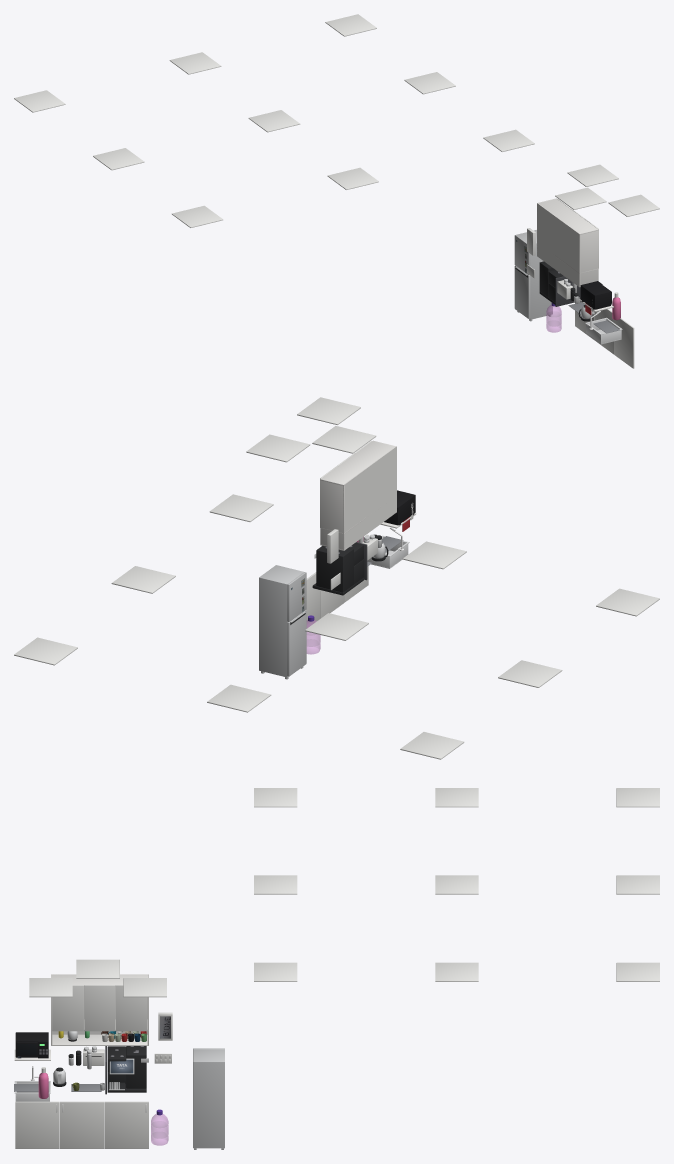
The model's file is props_pantry.glb.
3 views of the same model, one above another, from view 1: azimuth 30°, elevation 25°; view 2: azimuth 150°, elevation 25°; view 3: azimuth 270°, elevation 25° (orthographic). The views are drawn at different scales.
Parts seen in each view (by area): view 1: wall_cabinet_body, lg_fridge, base_cabinet_door_01, lg_fridge_door_main, lg_microwave, led_panel_04, led_panel_05, led_panel_09, led_panel_10, led_panel_12, led_panel_01, led_panel_02 (+7 smaller); view 2: wall_cabinet_body, lg_fridge, tata_bistro_machine, lg_fridge_door_main, led_panel_08, led_panel_12, led_panel_01, led_panel_02, led_panel_07, led_panel_09, led_panel_04, led_panel_05 (+7 smaller); view 3: lg_fridge, base_cabinet_door_01, base_cabinet_door_02, base_cabinet_door_03, wall_cabinet_body, wall_cabinet_door_02, tata_bistro_machine, wall_cabinet_door_01, wall_cabinet_door_03, led_panel_01, led_panel_02, led_panel_04 (+11 smaller).
Boxes of the visible parts, box(x1,y1,x2,y2) form: wall_cabinet_body: box(537, 198, 598, 287); lg_fridge: box(517, 230, 552, 321); base_cabinet_door_01: box(614, 318, 634, 368); lg_fridge_door_main: box(514, 265, 530, 318); lg_microwave: box(580, 281, 610, 309); led_panel_04: box(169, 52, 221, 74); led_panel_05: box(248, 110, 300, 132); led_panel_09: box(483, 129, 534, 151); led_panel_10: box(567, 164, 618, 186); led_panel_12: box(555, 187, 606, 209); led_panel_01: box(14, 90, 65, 112); led_panel_02: box(93, 148, 144, 170); wall_cabinet_body: box(320, 440, 396, 550); lg_fridge: box(259, 565, 303, 679); tata_bistro_machine: box(312, 543, 364, 595); lg_fridge_door_main: box(287, 610, 306, 676); led_panel_08: box(111, 566, 175, 593); led_panel_12: box(312, 426, 376, 453); led_panel_01: box(400, 732, 464, 759); led_panel_02: box(498, 660, 562, 687); led_panel_07: box(14, 637, 77, 665); led_panel_09: box(209, 494, 273, 521); led_panel_04: box(207, 684, 271, 712); led_panel_05: box(305, 613, 368, 640); lg_fridge: box(193, 1049, 224, 1149); base_cabinet_door_01: box(15, 1101, 59, 1148); base_cabinet_door_02: box(60, 1101, 104, 1148); base_cabinet_door_03: box(104, 1101, 148, 1148); wall_cabinet_body: box(51, 974, 148, 1045); wall_cabinet_door_02: box(84, 985, 115, 1031); tata_bistro_machine: box(107, 1046, 148, 1092); wall_cabinet_door_01: box(52, 985, 83, 1031); wall_cabinet_door_03: box(116, 985, 147, 1031); led_panel_01: box(616, 788, 659, 807); led_panel_02: box(435, 788, 478, 807); led_panel_04: box(616, 875, 659, 894).
Bounding box in the file's own units: 6.8 × 2.65 × 8.91.
Materials: 35 (9 with a texture image).
